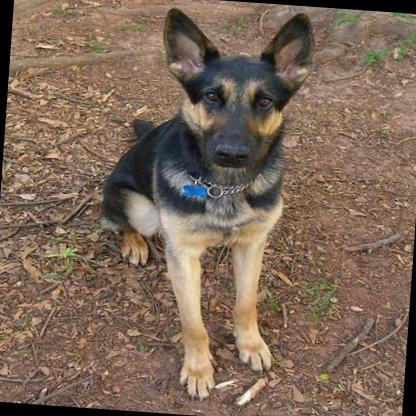German_shepherd: (87, 0, 316, 407)
